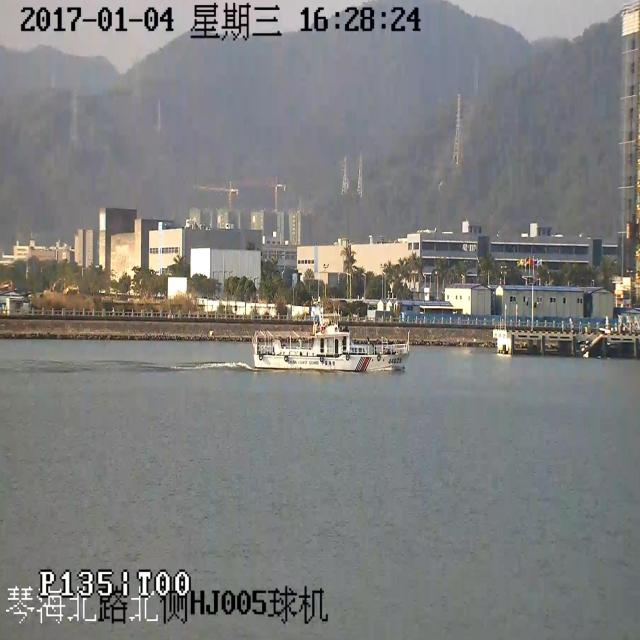houseboat: (245, 300, 414, 390)
